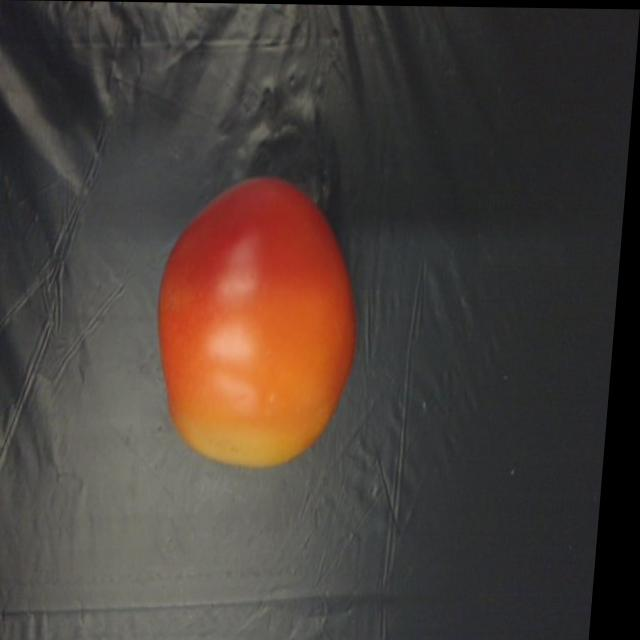sari: (147, 158, 383, 469)
